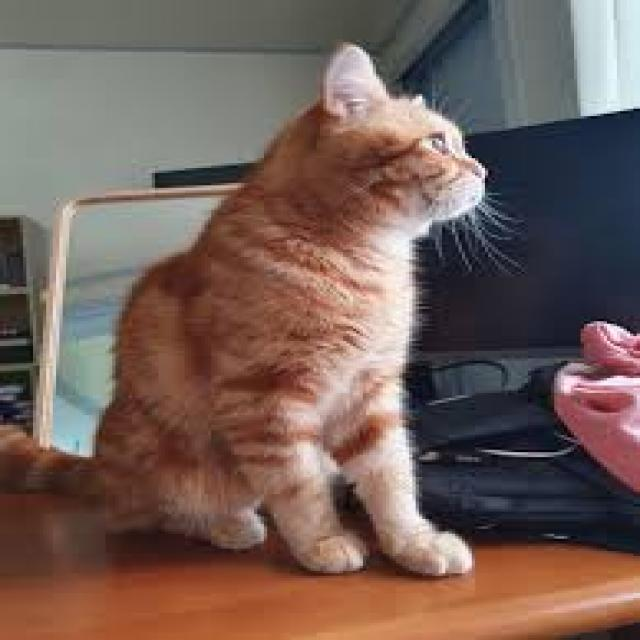cat: (0, 24, 515, 596)
